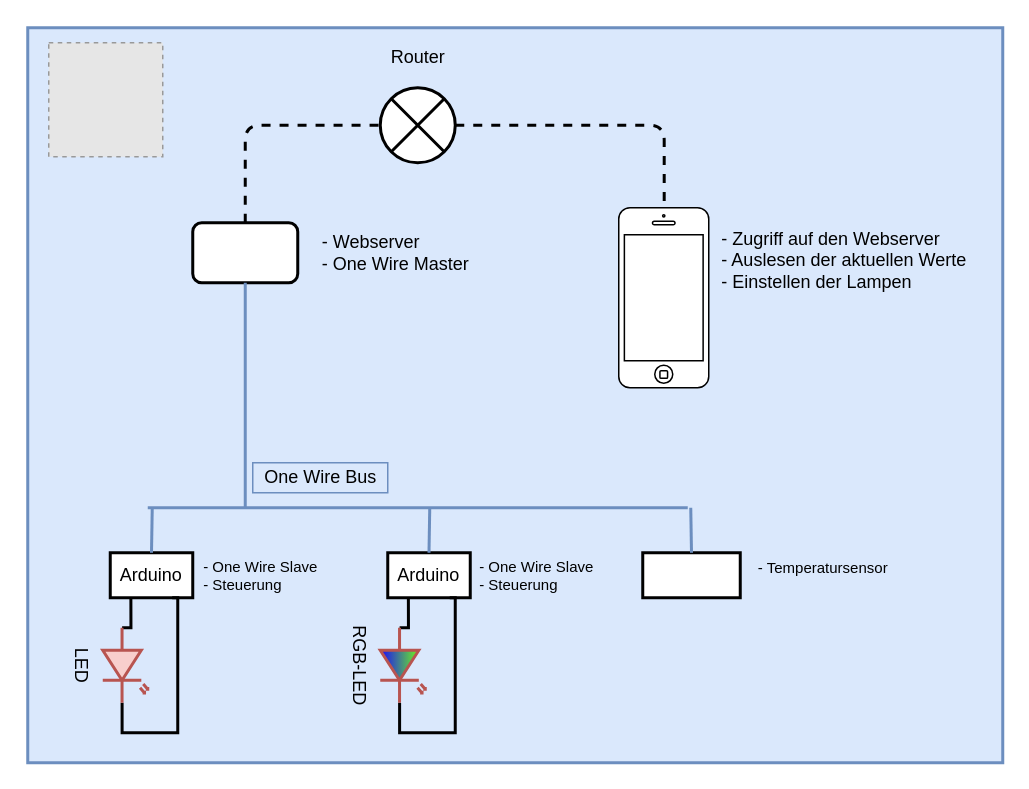
Some shapes in this 1029 by 789 pixel diagram are drawn without their labels. Grey dashed boxes stand in for pictures. Here are the shapes that lost their labels. From the top down, the centre of each, then its label:
(x=244, y=252): Raspberry Pi
(x=690, y=574): DS18B20
